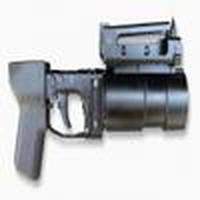gun: (6, 21, 200, 158)
